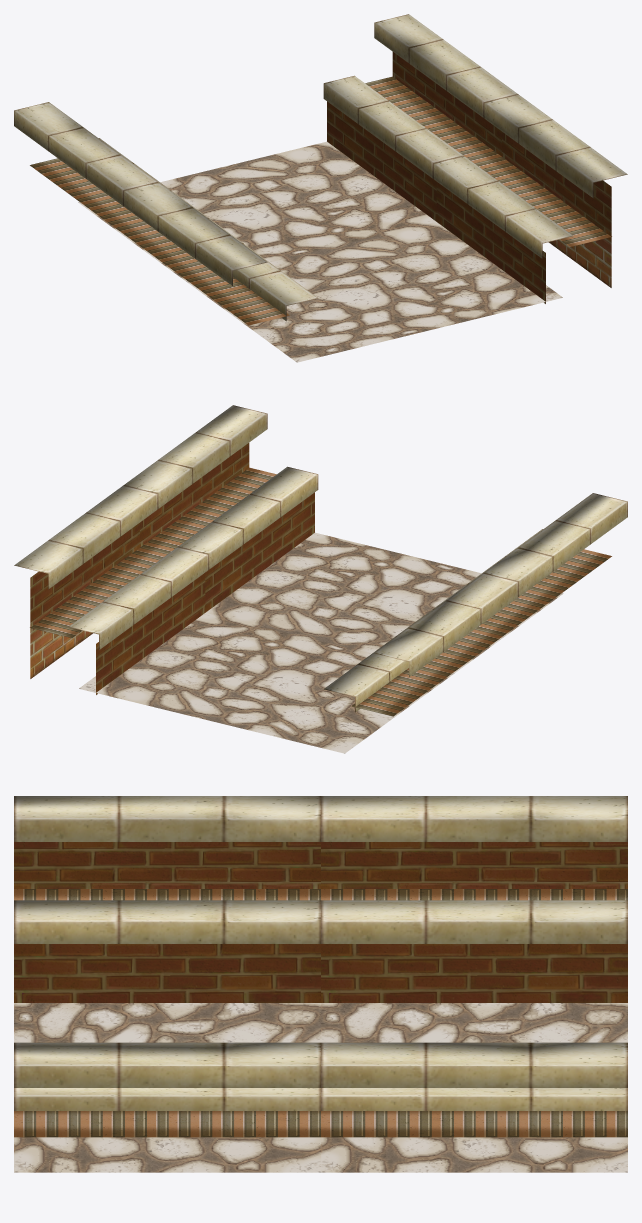
File: a_SEwater04.glb
3 views of the same model, one above another, from view 1: azimuth 30°, elevation 25°; view 2: azimuth 150°, elevation 25°; view 3: azimuth 270°, elevation 25° (orthographic). The views are drawn at different scales.
Parts seen in each view (by area): view 1: a_SEwater04; view 2: a_SEwater04; view 3: a_SEwater04.
Boxes of the visible parts, x1,y1,x2,y2 form: a_SEwater04: (14, 14, 627, 362); a_SEwater04: (14, 405, 627, 753); a_SEwater04: (14, 796, 627, 1172).
Size of the model in its own units: 4.16 by 1.11 by 4.
Materials: 2 (2 with a texture image).
